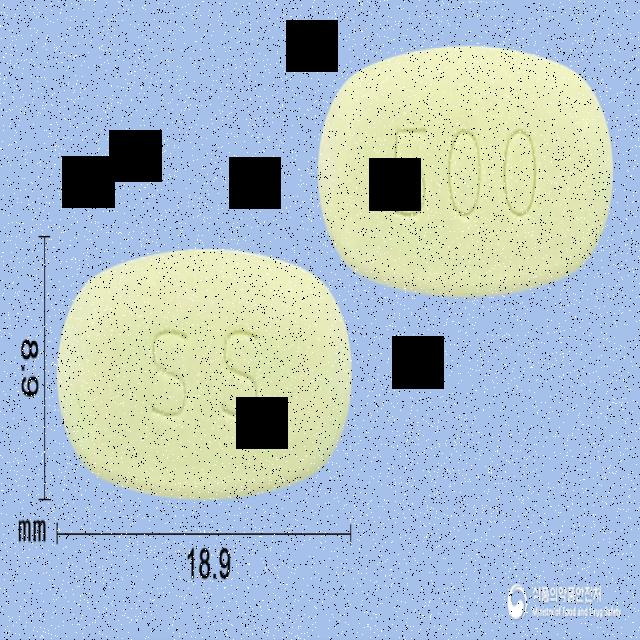Samsung Clarithromycin Tab-500mg: (56, 246, 354, 502), (318, 46, 615, 294)
